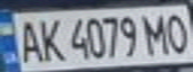0: (84, 13, 106, 60)
4: (63, 13, 87, 60)
7: (103, 12, 121, 59)
9: (118, 11, 142, 58)
A: (12, 16, 45, 63)
K: (33, 15, 66, 63)
M: (139, 10, 172, 56)
O: (160, 9, 193, 54)
